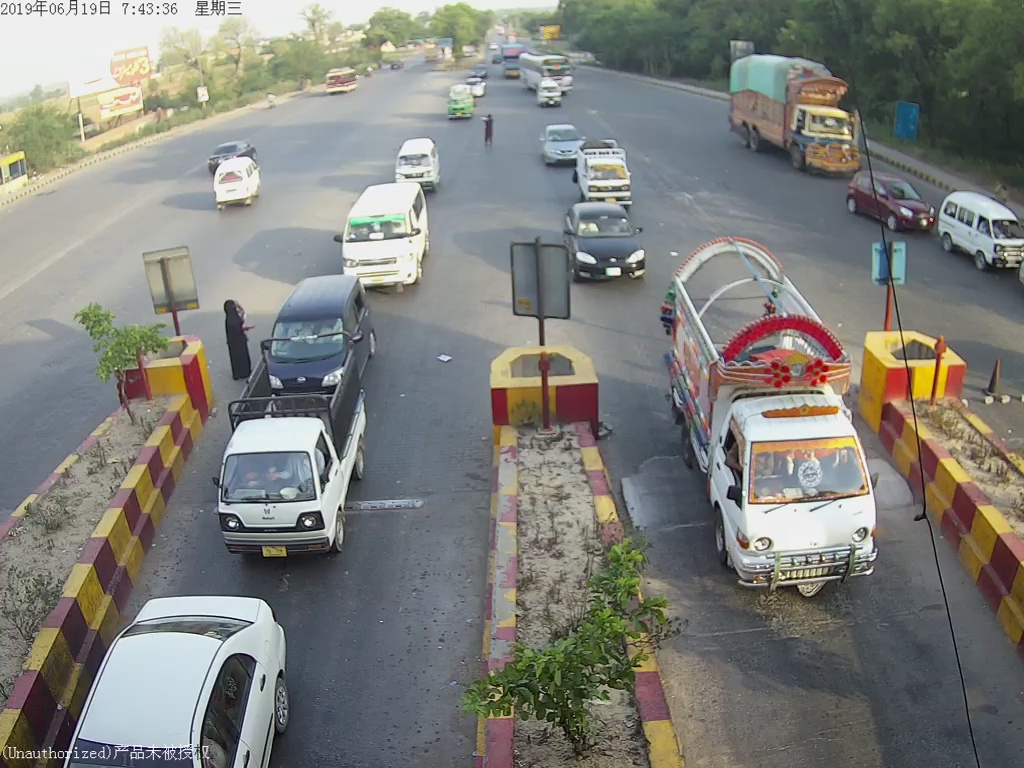Cat-1: (216, 359, 378, 561), (565, 202, 641, 285), (578, 144, 631, 202)
Cat-2: (672, 246, 892, 627), (331, 183, 438, 280)
